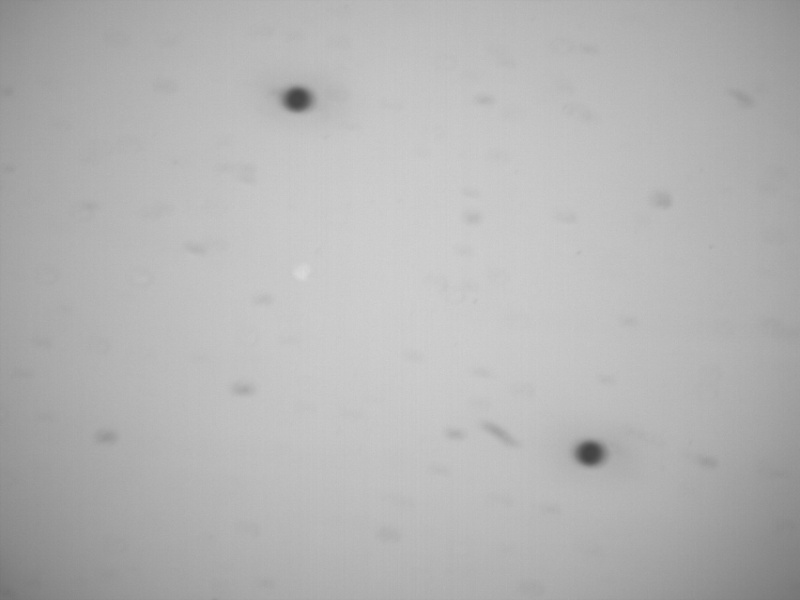bead: (281, 84, 316, 116), (574, 438, 607, 467)
